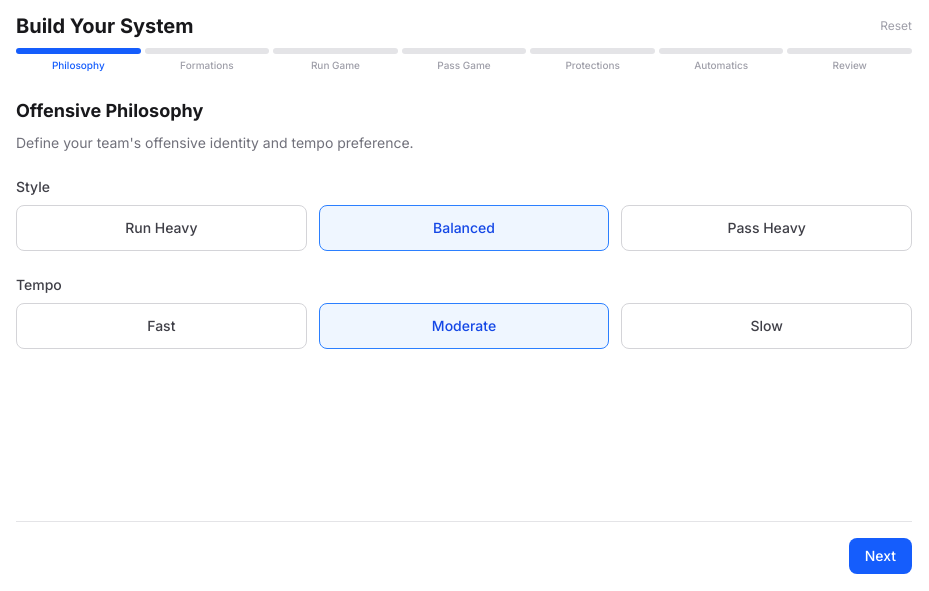
Scenario: SystemBuilder › can deselect formations
Click the button with test id "next-button": (880, 556) [849, 538, 912, 574]
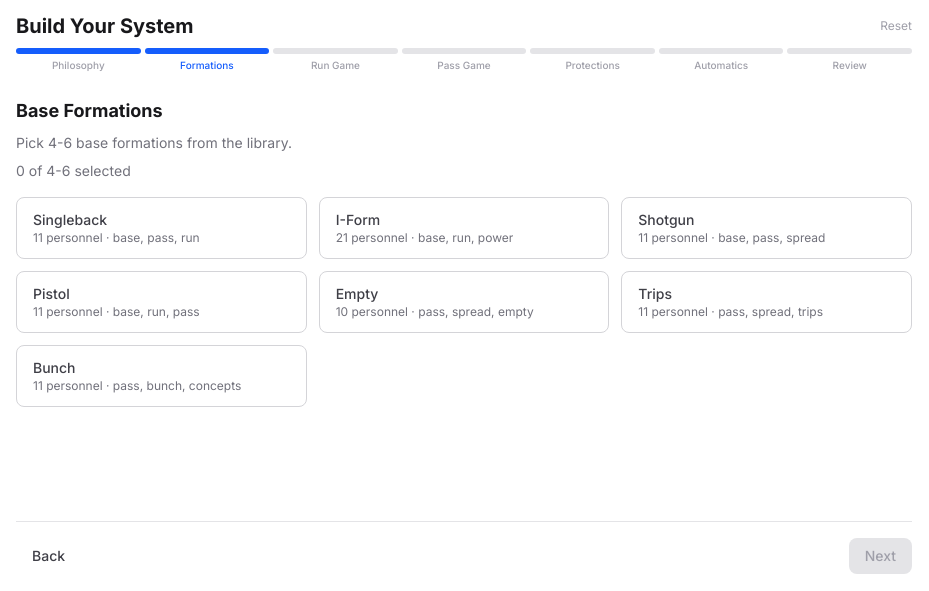
Click the button with test id "formation-option-builtin-singleback": (161, 228) [16, 197, 307, 259]
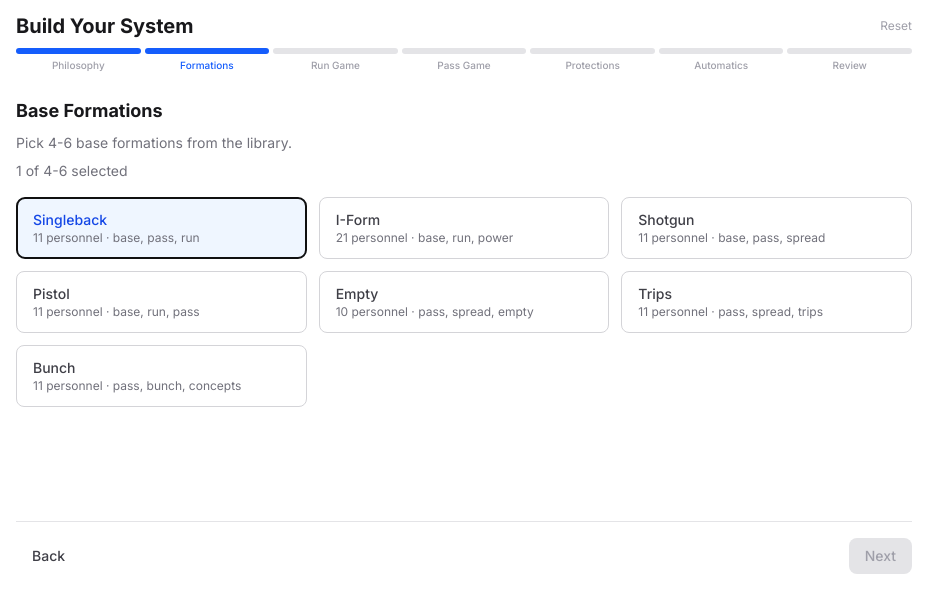
Click the button with test id "formation-option-builtin-singleback": (161, 228) [16, 197, 307, 259]
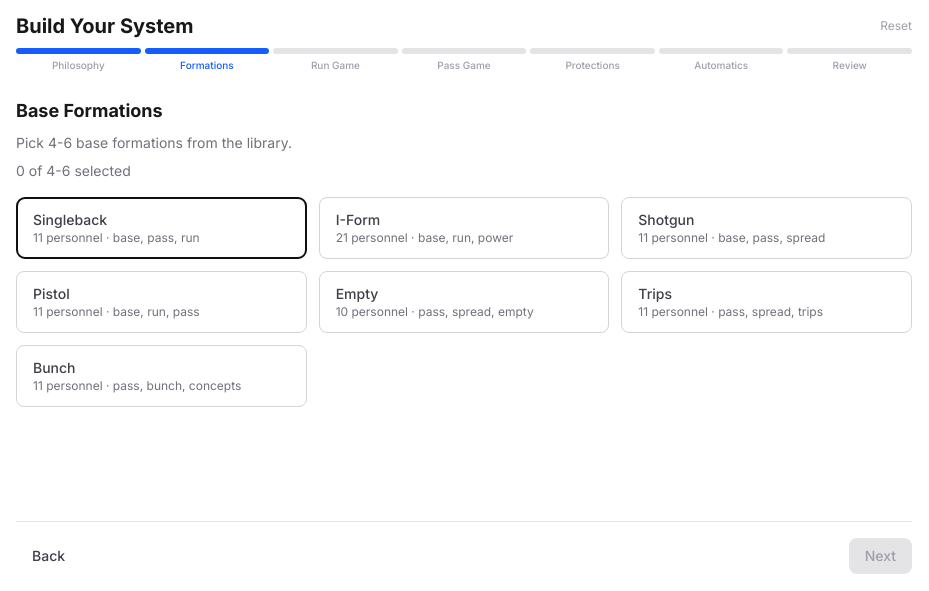
Now the text with test id "formation-count" reads "0 of 4-6 selected", box [16, 162, 131, 179]
